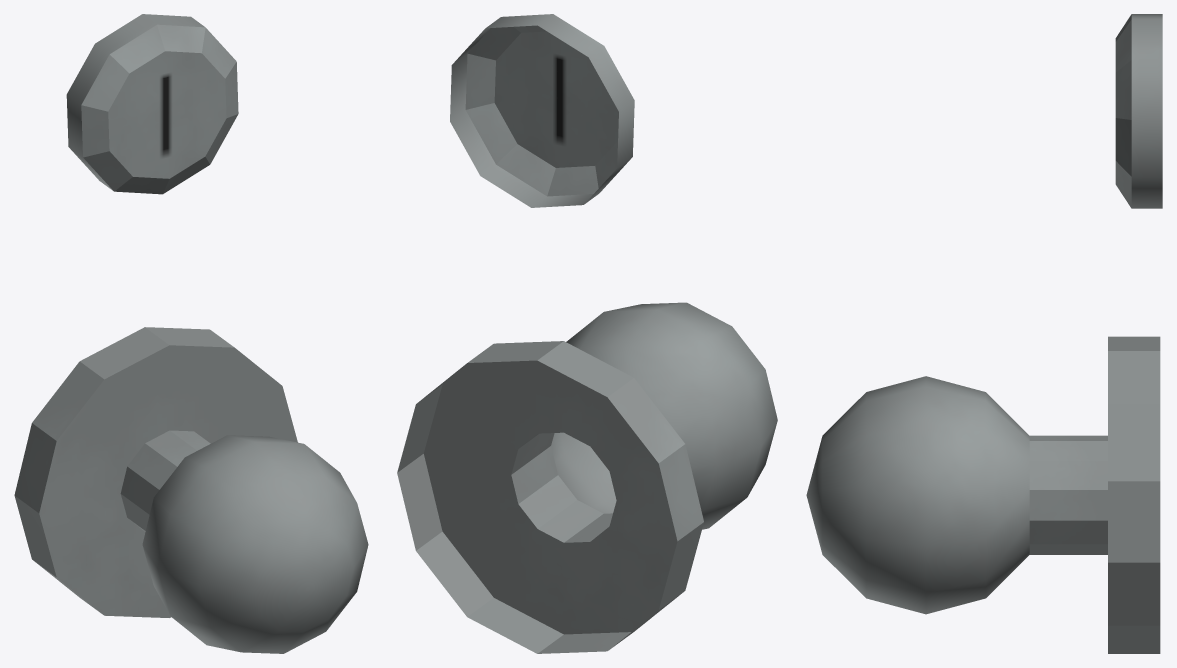
Rendered from door_handle.fbx.
The picture shows the model from 3 angles, left to right: view 1: azimuth 30°, elevation 25°; view 2: azimuth 150°, elevation 25°; view 3: azimuth 270°, elevation 25°; orthographic projection. The views are drawn at different scales.
Parts seen in each view (by area): view 1: Object204; view 2: Object204; view 3: Object204.
Part boxes in pixels (x1,y1,x2,y2): Object204: (14, 14, 368, 653); Object204: (397, 14, 777, 653); Object204: (806, 14, 1162, 653).
Bounding box in the file's own units: 27.29 × 58.55 × 30.5.
